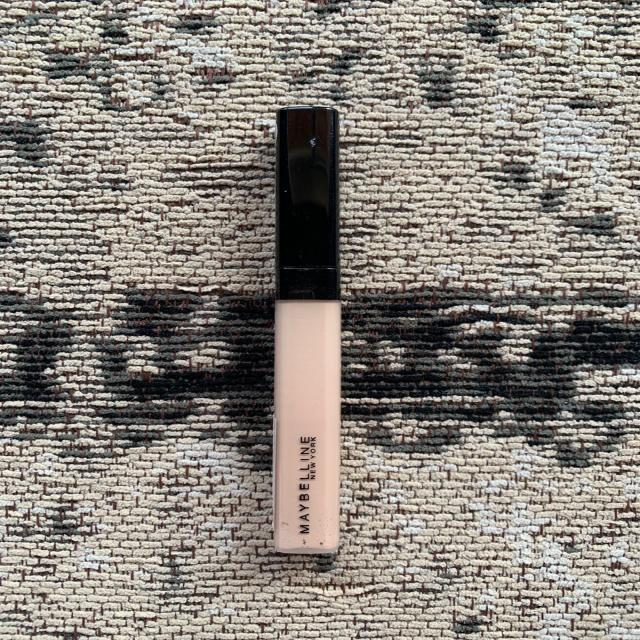concealer: (238, 89, 388, 583)
